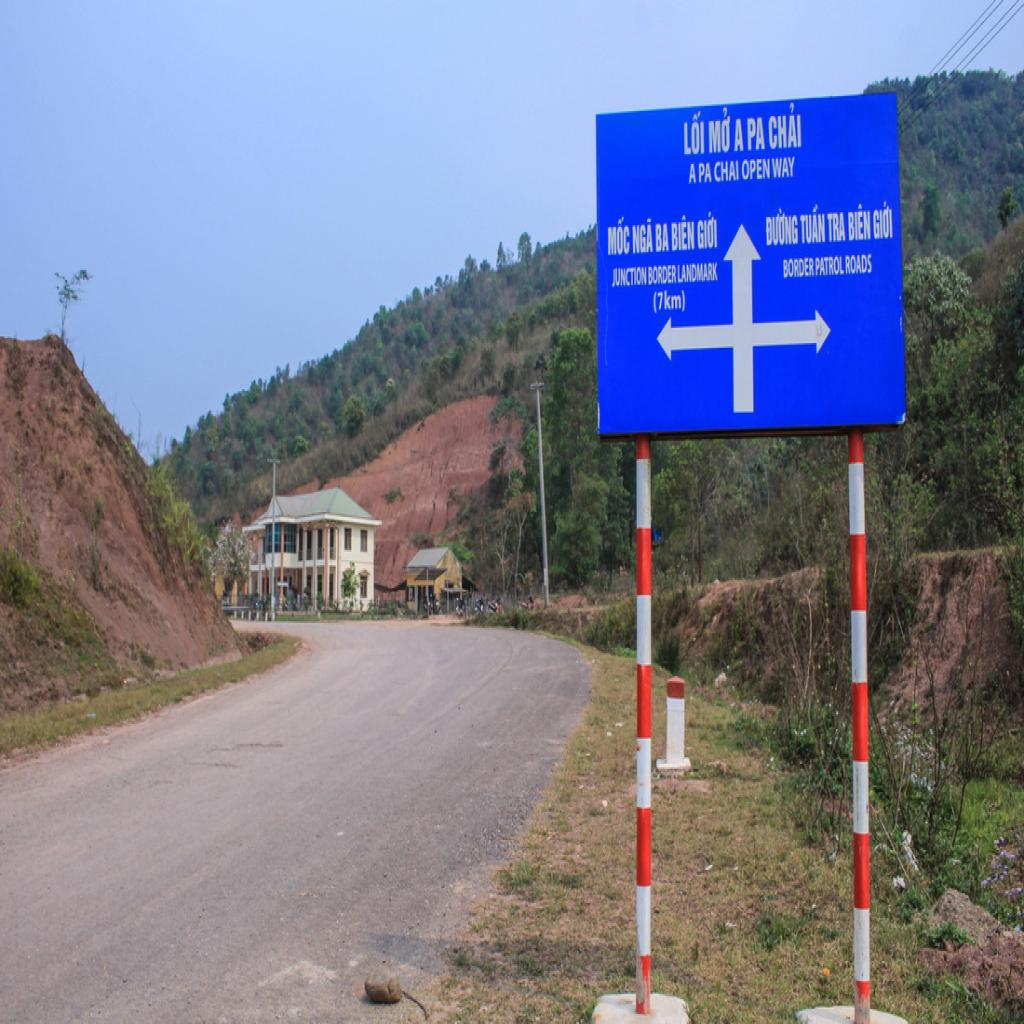text: (765, 100, 805, 152), (764, 208, 799, 248), (680, 109, 708, 156), (678, 260, 720, 288), (800, 206, 828, 248), (846, 202, 872, 247), (605, 216, 631, 260), (612, 265, 652, 293), (710, 108, 734, 154), (874, 202, 898, 247), (672, 212, 696, 255), (696, 212, 720, 252), (781, 257, 816, 282), (743, 154, 773, 182), (653, 292, 688, 316), (772, 152, 798, 182), (633, 219, 654, 255), (713, 159, 742, 184), (747, 114, 766, 152), (648, 264, 678, 288), (816, 254, 846, 278), (828, 212, 848, 245), (656, 219, 670, 257), (734, 116, 746, 156), (697, 161, 714, 184), (687, 161, 699, 187)
